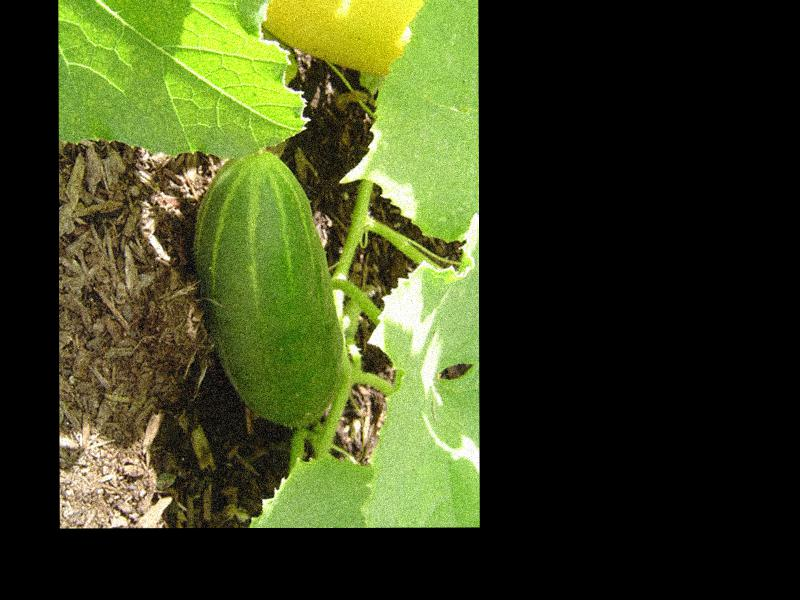Cucumber: (191, 149, 344, 428)
